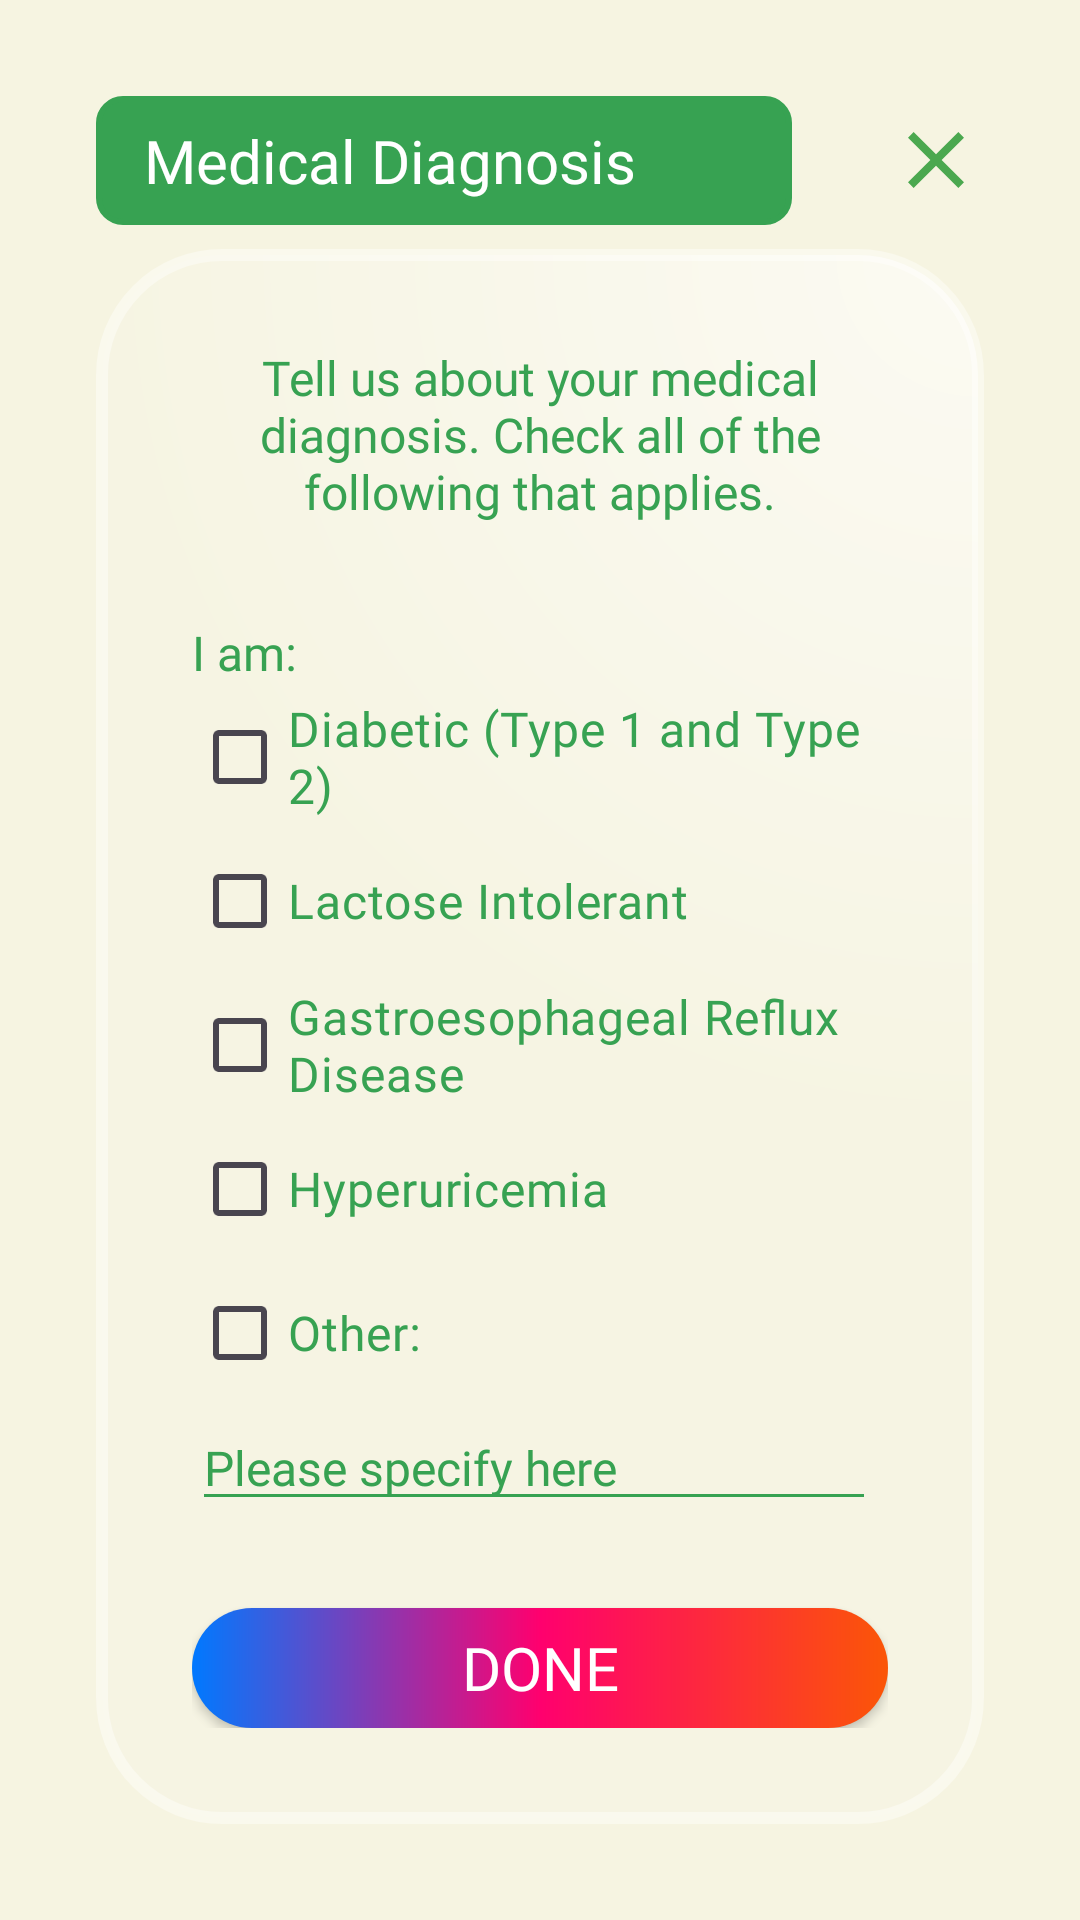

Named icons in this screenshot (1080px x 1920px) and their bounding boxes, (x1, y1, x2, y2):
close: (908, 132, 964, 188)
